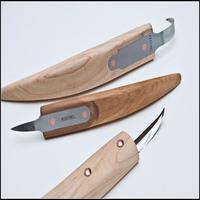knife: (109, 104, 181, 177), (5, 105, 138, 138)
